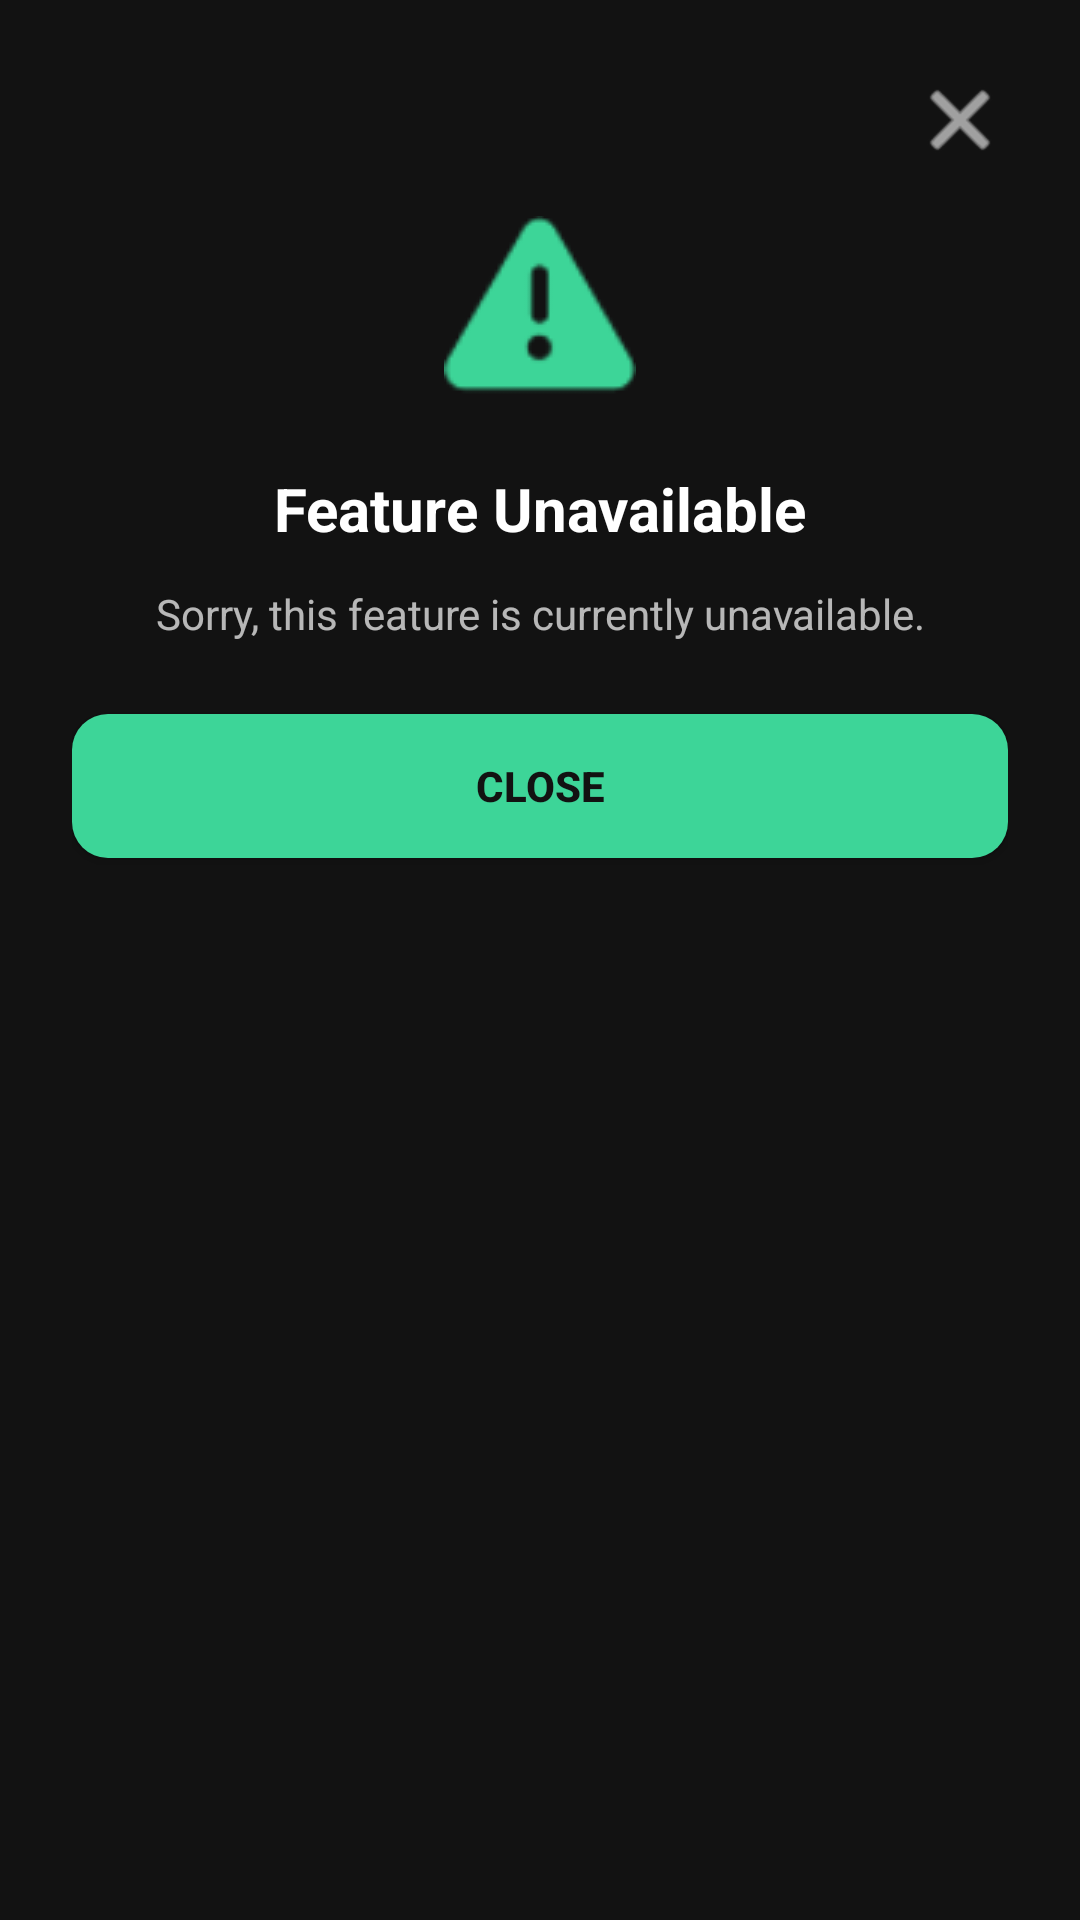

Screen size 1080w x 1920h. Icon name, then its center in pixels as point (x, y):
alert: point (540, 303)
close clear cancel: point (960, 120)
